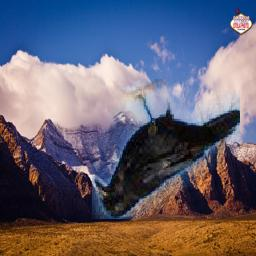Crow: (92, 79, 240, 219)
